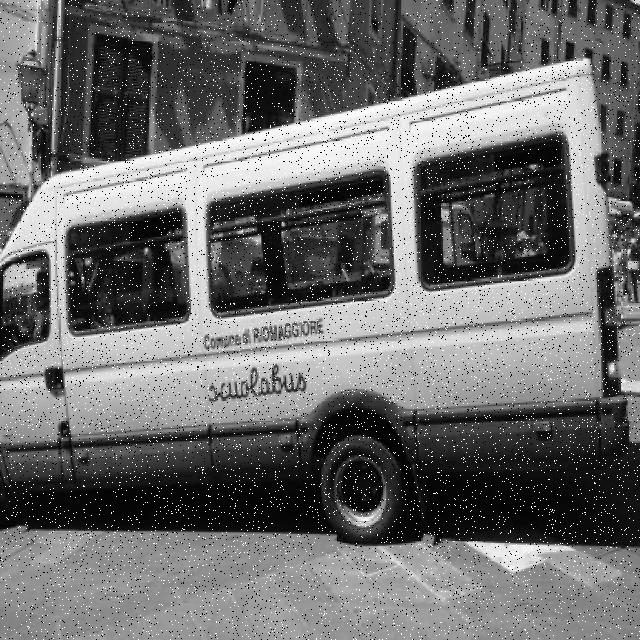Van: (0, 59, 632, 548)
